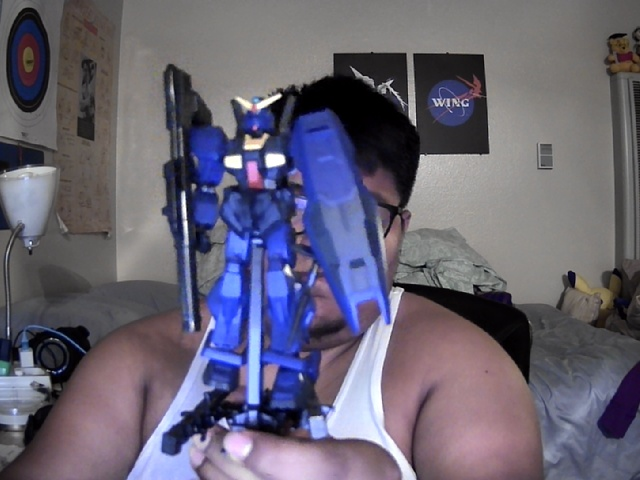Mk-11-Titans: (160, 64, 391, 412)
